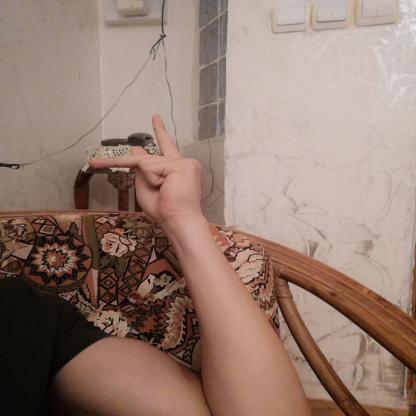DHAA: (76, 106, 210, 229)
